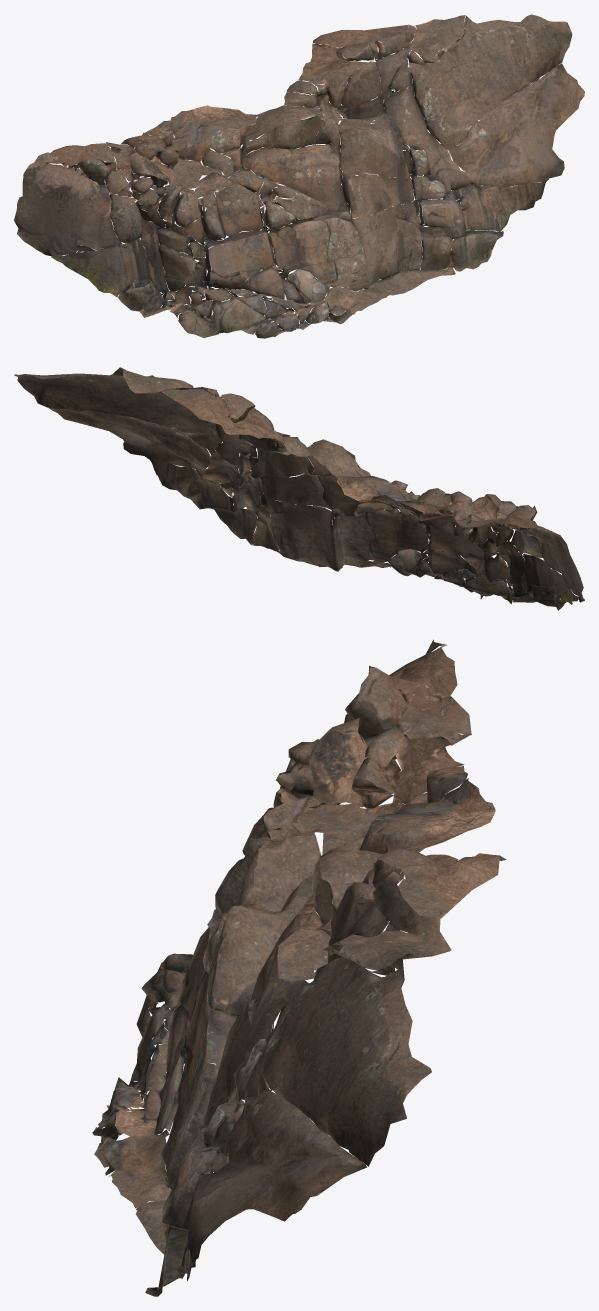
The model's file is namaqualand_cliff_02_LOD2.fbx.
3 renders of one model, top to bottom at view 1: azimuth 30°, elevation 25°; view 2: azimuth 150°, elevation 25°; view 3: azimuth 270°, elevation 25°, orthographic. The views are drawn at different scales.
Visible parts, largest first — view 1: namaqualand_cliff_02.001; view 2: namaqualand_cliff_02.001; view 3: namaqualand_cliff_02.001.
Part boxes in pixels (left/top/right/bottom): namaqualand_cliff_02.001: left=14, top=14, right=584, bottom=338; namaqualand_cliff_02.001: left=14, top=367, right=584, bottom=610; namaqualand_cliff_02.001: left=92, top=639, right=506, bottom=1296.
Size of the model in its own units: 20.23 by 6.6 by 7.24.
